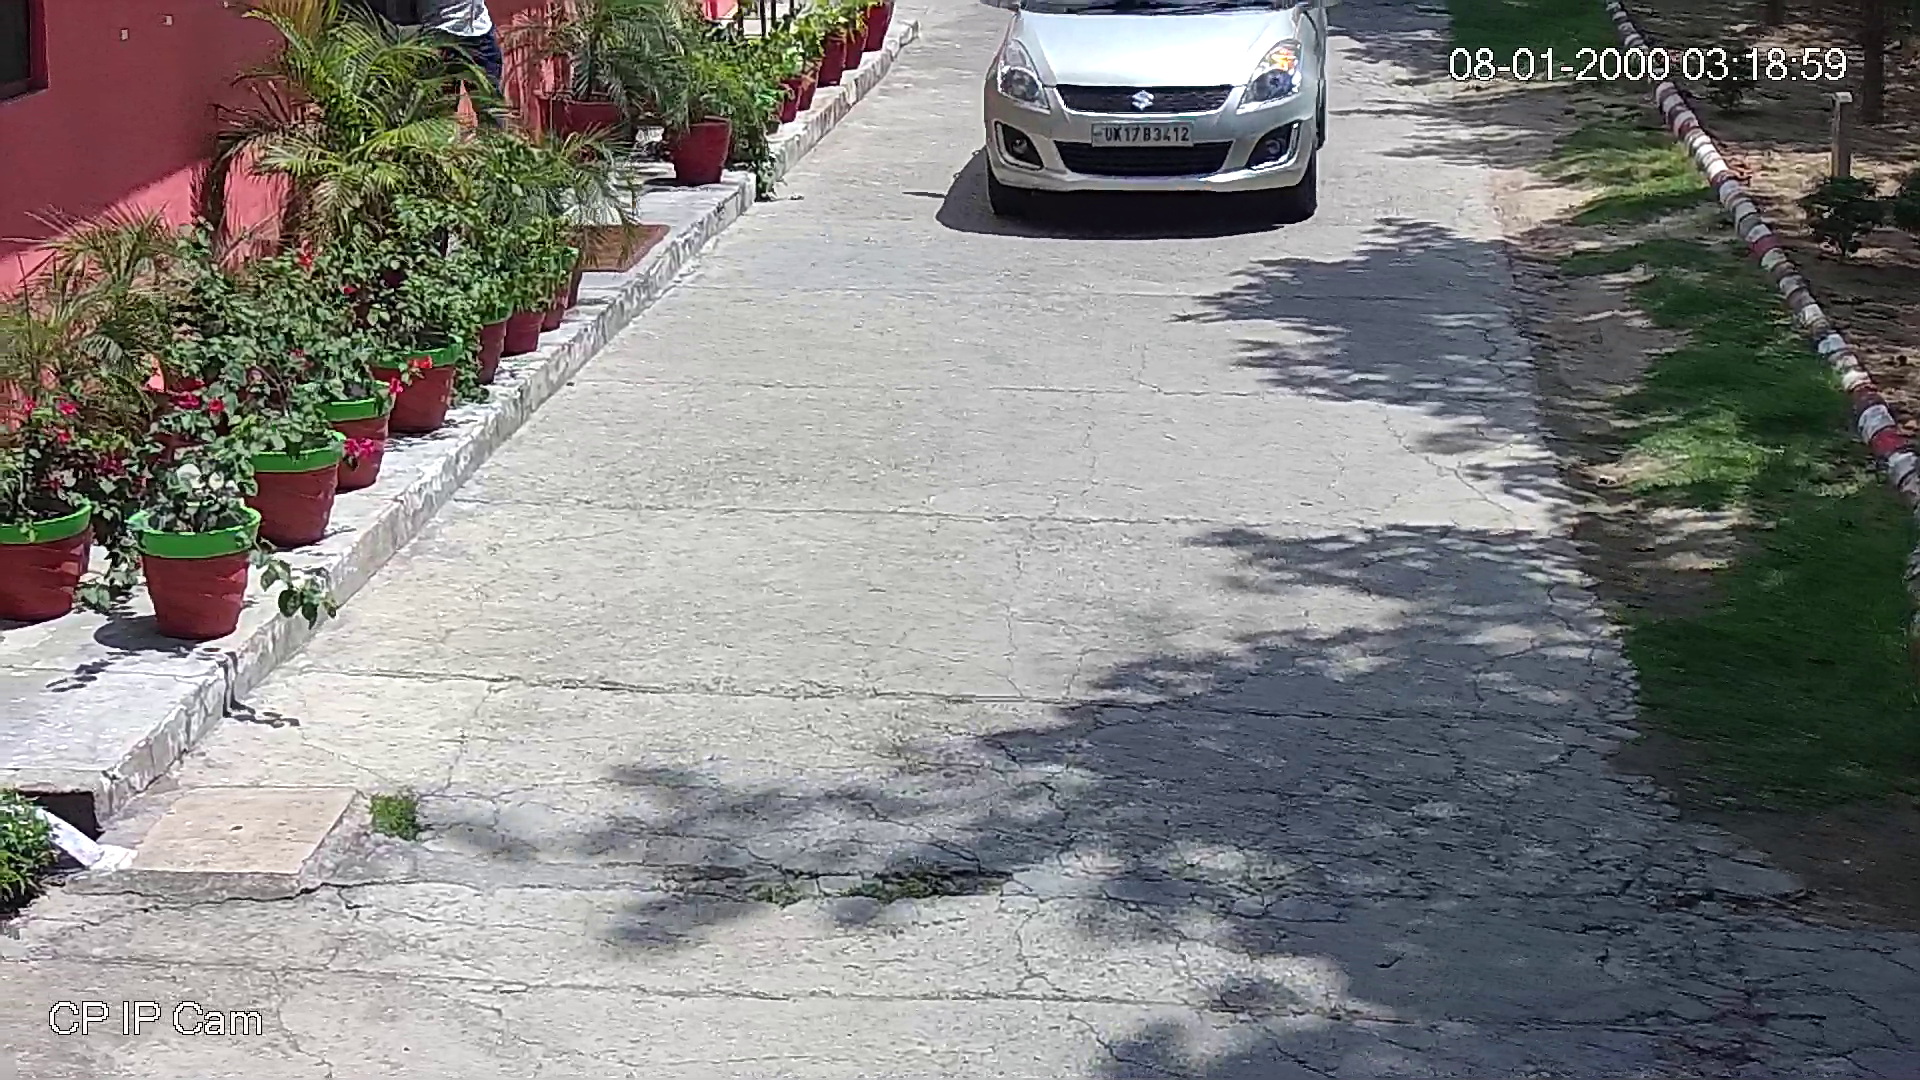plate: (1083, 118, 1198, 148)
